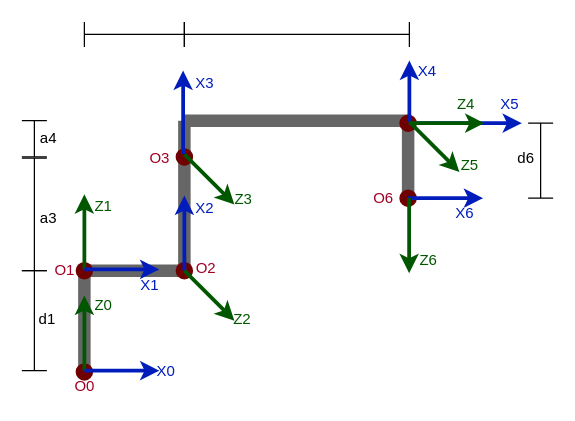
Some shapes in this 575 by 421 pixel diagram are drawn without their labels. Here are the shapes that lost their labels. From the top down, the centre of each, then its label:
(x=133, y=34): a2
(x=296, y=34): d4
(x=407, y=122): O4 O5
